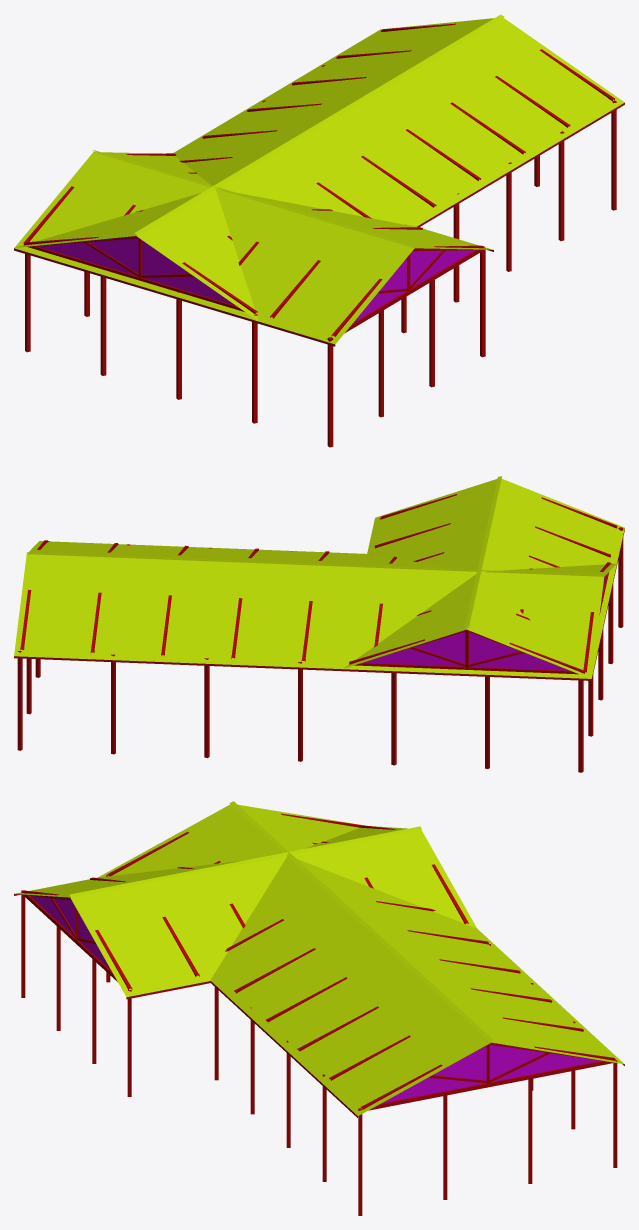
The model's file is sbl_22.glb.
3 views of the same model, one above another, from view 1: azimuth 30°, elevation 25°; view 2: azimuth 150°, elevation 25°; view 3: azimuth 270°, elevation 25° (orthographic). The views are drawn at different scales.
Visible parts, largest first — view 1: sbl_22; view 2: sbl_22; view 3: sbl_22.
Boxes of the visible parts, <box> form: sbl_22: <box>14,14,624,447</box>; sbl_22: <box>14,476,624,772</box>; sbl_22: <box>14,801,624,1215</box>.
Size of the model in its own units: 34.53 by 8.49 by 30.66.
